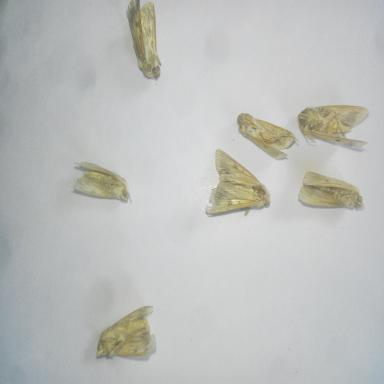abw: (204, 145, 272, 217), (94, 302, 162, 365), (295, 102, 371, 154), (295, 168, 367, 216), (234, 110, 300, 162), (123, 0, 164, 83), (71, 159, 134, 207)
